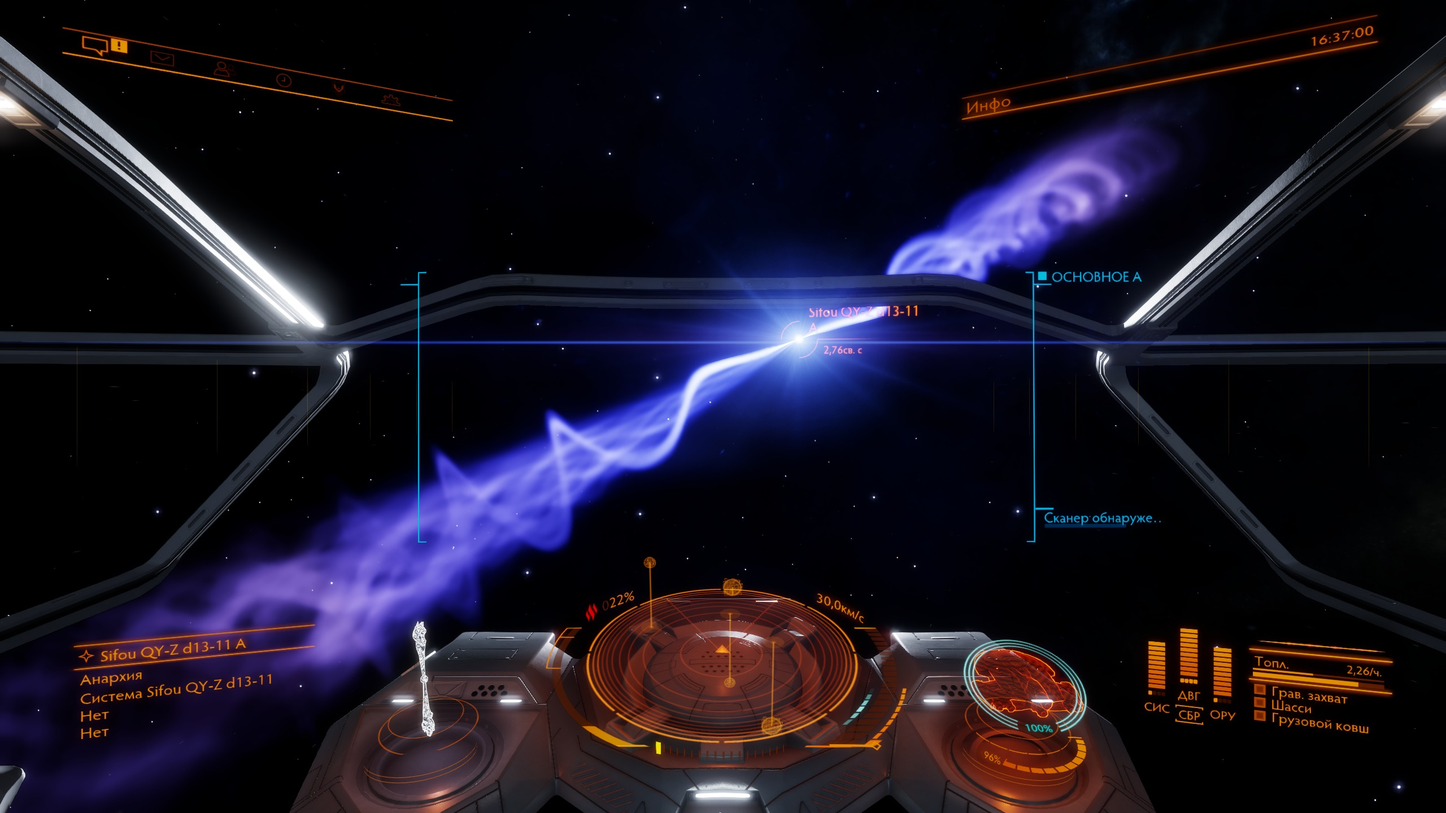jetcone: (74, 324, 771, 655), (841, 89, 1211, 353)
